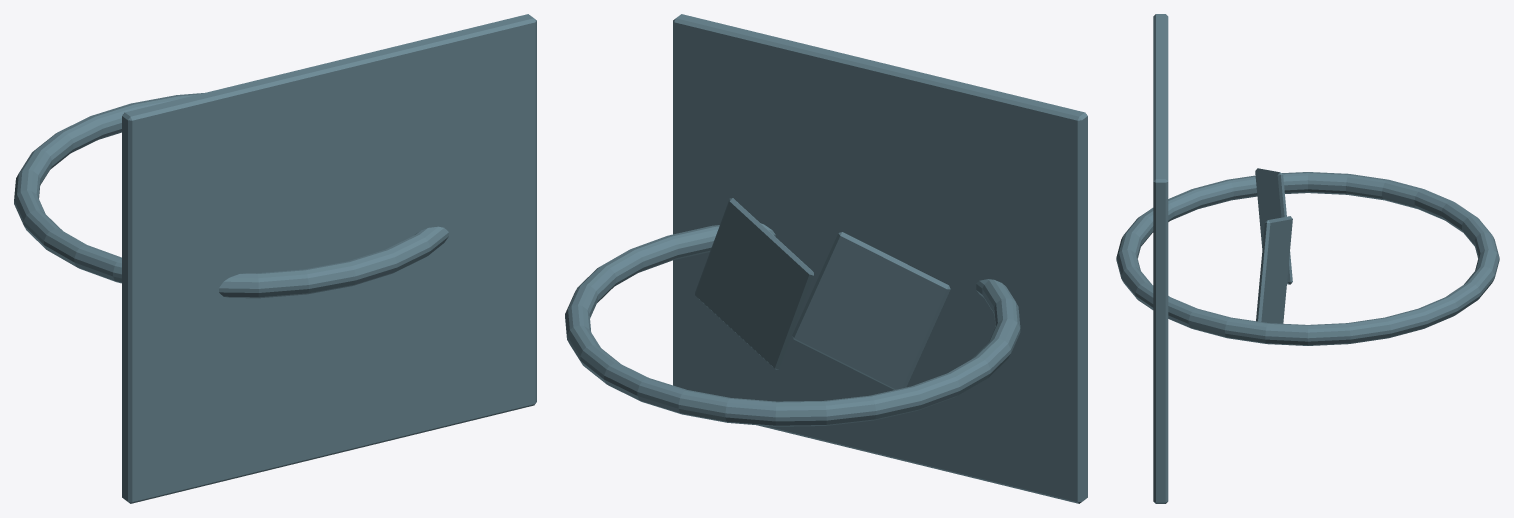
File: SM_Int_Fighter_Cabin_Viewport.fbx
3 renders of one model, left to right at view 1: azimuth 30°, elevation 25°; view 2: azimuth 150°, elevation 25°; view 3: azimuth 270°, elevation 25°, orthographic. The views are drawn at different scales.
Parts seen in each view (by area): view 1: SM_Int_Fighter_Cabin_Viewport; view 2: SM_Int_Fighter_Cabin_Viewport; view 3: SM_Int_Fighter_Cabin_Viewport.
Part boxes in pixels (x1,y1,x2,y2): SM_Int_Fighter_Cabin_Viewport: (14,14,536,503); SM_Int_Fighter_Cabin_Viewport: (565,14,1087,503); SM_Int_Fighter_Cabin_Viewport: (1116,14,1499,503).
Bounding box in the file's own units: 210 × 203 × 190.
